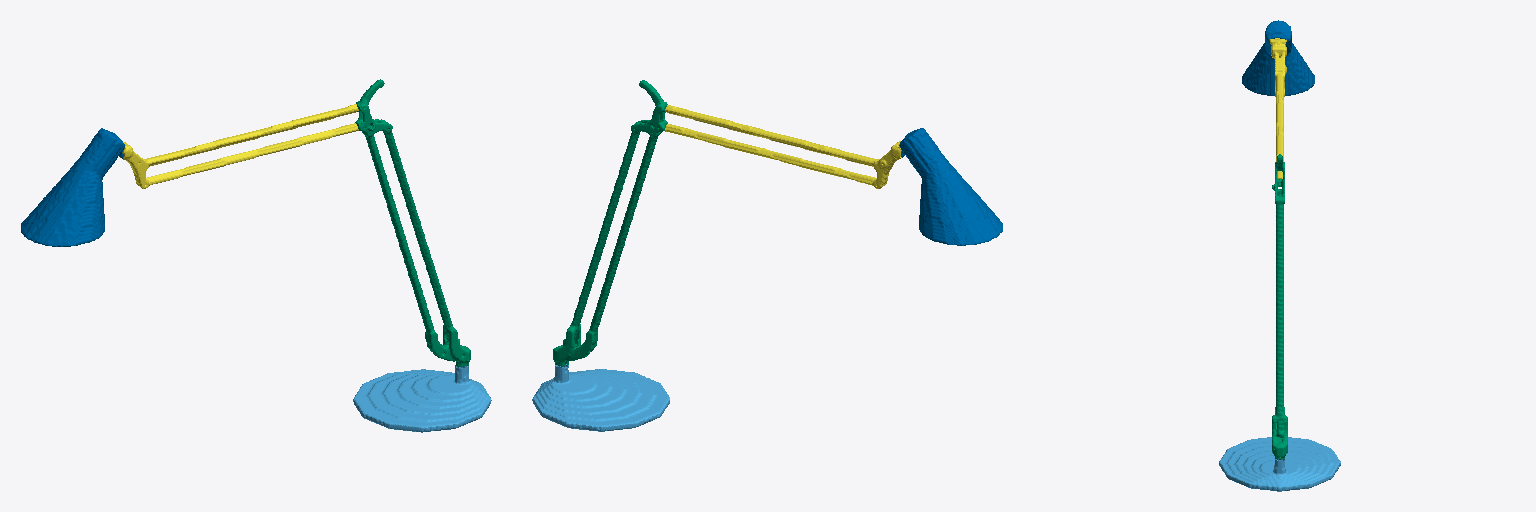
robot.urdf — object:
<?xml version='1.0' encoding='utf-8'?>
<robot name="object">
  <link name="base">
    <inertial>
      <origin xyz="0 0 0" rpy="0 0 0" />
      <mass value="0.0" />
      <inertia ixx="0" ixy="0" ixz="0" iyy="0" iyz="0" izz="0" />
    </inertial>
  </link>
  <link name="link_1">
    <visual>
      <origin xyz="0 0 0" rpy="0 0 0" />
      <geometry>
        <mesh filename="meshes/link_1.stl" />
      </geometry>
    </visual>
    <collision>
      <origin xyz="0 0 0" rpy="0 0 0" />
      <geometry>
        <mesh filename="meshes/link_1.stl" />
      </geometry>
    </collision>
    <inertial>
      <origin xyz="0.551188201 0.002321258 -0.597484913" rpy="0 0 0" />
      <mass value="5.39384631" />
      <inertia ixx="0.0555192579" ixy="-1.26829041e-05" ixz="-0.00159988871" iyy="0.0598771754" iyz="2.37340164e-06" izz="0.113624958" />
    </inertial>
  </link>
  <link name="link_2">
    <visual>
      <origin xyz="-0.687455089 -0.00273809246 0.506032737" rpy="0 0 0" />
      <geometry>
        <mesh filename="meshes/link_2.stl" />
      </geometry>
    </visual>
    <collision>
      <origin xyz="-0.687455089 -0.00273809246 0.506032737" rpy="0 0 0" />
      <geometry>
        <mesh filename="meshes/link_2.stl" />
      </geometry>
    </collision>
    <inertial>
      <origin xyz="-0.317421354 -0.00121286351 0.499818052" rpy="0 0 0" />
      <mass value="2.09478233" />
      <inertia ixx="0.142182464" ixy="-3.44598275e-06" ixz="0.0450338722" iyy="0.152586606" iyz="7.98039411e-05" izz="0.0107310244" />
    </inertial>
  </link>
  <link name="link_3">
    <visual>
      <origin xyz="-0.29217409 -0.00236580938 -0.484597394" rpy="0 0 0" />
      <geometry>
        <mesh filename="meshes/link_3.stl" />
      </geometry>
    </visual>
    <collision>
      <origin xyz="-0.29217409 -0.00236580938 -0.484597394" rpy="0 0 0" />
      <geometry>
        <mesh filename="meshes/link_3.stl" />
      </geometry>
    </collision>
    <inertial>
      <origin xyz="-0.625867809 -0.00311677593 -0.671368681" rpy="0 0 0" />
      <mass value="-3.00913675" />
      <inertia ixx="1.40208738" ixy="-0.00174371466" ixz="-0.520816406" iyy="1.67694134" iyz="-0.00557886743" izz="0.275087064" />
    </inertial>
  </link>
  <link name="link_4">
    <visual>
      <origin xyz="0.602762058 0.00206676852 -0.578745101" rpy="0 0 0" />
      <geometry>
        <mesh filename="meshes/link_4.stl" />
      </geometry>
    </visual>
    <collision>
      <origin xyz="0.602762058 0.00206676852 -0.578745101" rpy="0 0 0" />
      <geometry>
        <mesh filename="meshes/link_4.stl" />
      </geometry>
    </collision>
    <inertial>
      <origin xyz="-0.141783705 -0.000914955643 -0.0972718163" rpy="0 0 0" />
      <mass value="2.79255049" />
      <inertia ixx="0.0281614102" ixy="-2.07379804e-05" ixz="-0.0150578544" iyy="0.039793871" iyz="-1.25290185e-05" izz="0.025600094" />
    </inertial>
  </link>
  <joint name="joint_1_2" type="revolute">
    <parent link="link_1" />
    <child link="link_2" />
    <origin xyz="0.687455089 0.00273809246 -0.506032737" rpy="0 0 0" />
    <axis xyz="0.0121977672 0.0124894903 -0.999847602" />
    <limit lower="-1.57" upper="1.57" effort="10.0" velocity="1.0" />
  </joint>
  <joint name="joint_2_3" type="revolute">
    <parent link="link_2" />
    <child link="link_3" />
    <origin xyz="-0.395280999 -0.000372283085 0.990630132" rpy="0 0 0" />
    <axis xyz="-0.00578407356 0.99995203 0.00790457209" />
    <limit lower="-1.57" upper="1.57" effort="10.0" velocity="1.0" />
  </joint>
  <joint name="joint_3_4" type="revolute">
    <parent link="link_3" />
    <child link="link_4" />
    <origin xyz="-0.894936148 -0.0044325779 0.0941477071" rpy="0 0 0" />
    <axis xyz="0.0077309311 0.999949916 0.00635587935" />
    <limit lower="-1.57" upper="1.57" effort="10.0" velocity="1.0" />
  </joint>
  <joint name="base_to_1" type="fixed">
    <parent link="base" />
    <child link="link_1" />
    <origin xyz="0 0 0" rpy="0 0 0" />
  </joint>
</robot>

--- Render facts (derived) ---
3 views of the same robot in one strip: view 1: azimuth 30°, elevation 25°; view 2: azimuth 150°, elevation 25°; view 3: azimuth 270°, elevation 25° (orthographic).
Robot: object — 5 links, 4 joints (3 revolute, 1 fixed); root link base; default pose: all joints at 0.
Visible links, largest first — view 1: link_1, link_4, link_2, link_3; view 2: link_1, link_4, link_2, link_3; view 3: link_1, link_2, link_4, link_3.
Link boxes in pixels (left/top/right/bottom): link_1: left=353, top=365, right=491, bottom=432; link_4: left=21, top=128, right=124, bottom=246; link_2: left=355, top=79, right=470, bottom=366; link_3: left=120, top=104, right=358, bottom=188; link_1: left=532, top=364, right=669, bottom=431; link_4: left=899, top=128, right=1002, bottom=245; link_2: left=553, top=80, right=667, bottom=366; link_3: left=665, top=105, right=901, bottom=188; link_1: left=1219, top=437, right=1340, bottom=491; link_2: left=1272, top=154, right=1287, bottom=459; link_4: left=1242, top=20, right=1314, bottom=95; link_3: left=1270, top=38, right=1286, bottom=178.
Size in the robot's own frame: 1.72 by 0.4513 by 1.27 metres.
4 mesh visuals loaded from 4 distinct referenced files (4 binary STL).
